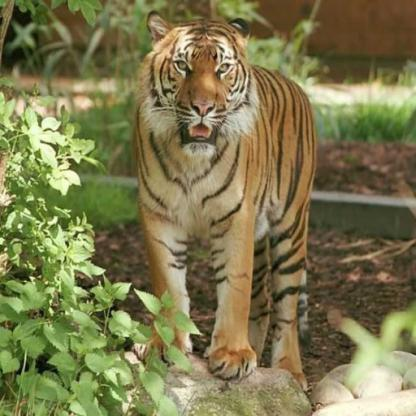Tiger: (118, 0, 332, 397)
